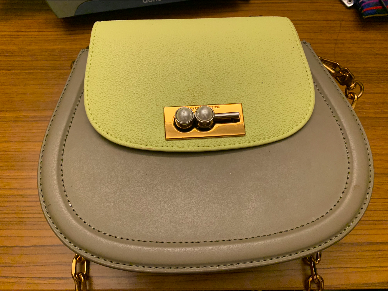Nonfood: (38, 34, 360, 265)
